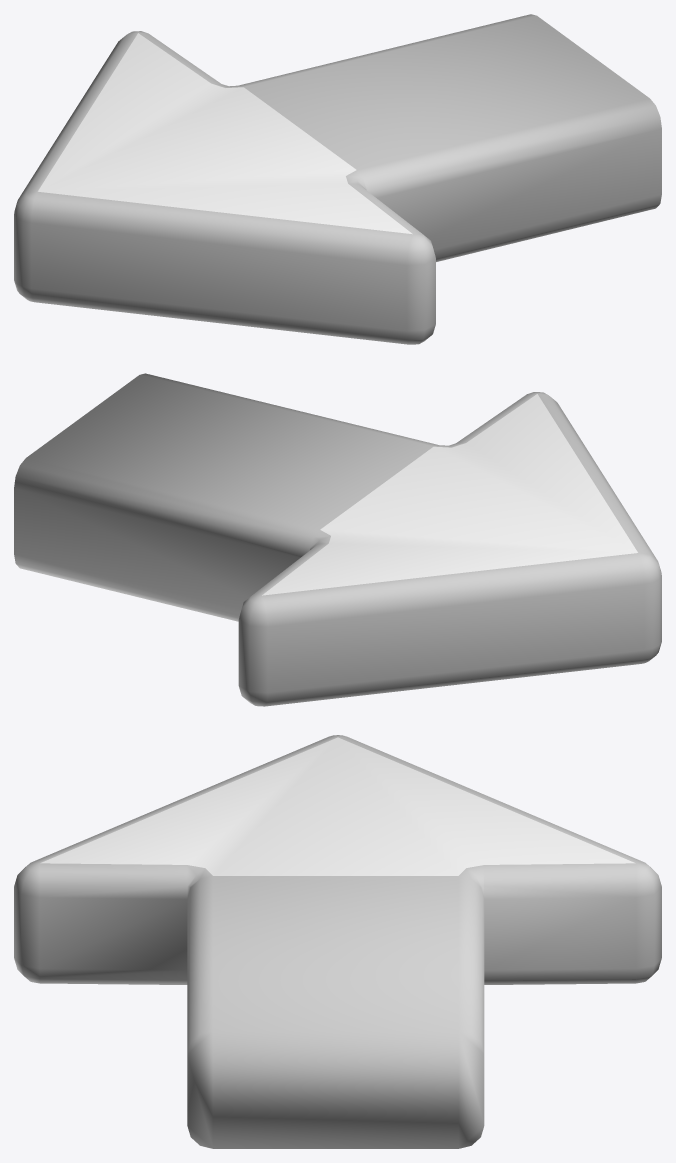
Rendered from movementArrowEnd.fbx.
3 renders of one model, top to bottom at view 1: azimuth 30°, elevation 25°; view 2: azimuth 150°, elevation 25°; view 3: azimuth 270°, elevation 25°, orthographic. The views are drawn at different scales.
Visible parts, largest first — view 1: Cube_002; view 2: Cube_002; view 3: Cube_002.
Part boxes in pixels (x1,y1,x2,y2): Cube_002: (14,14,661,344); Cube_002: (14,373,661,706); Cube_002: (14,735,661,1148).
Bounding box in the file's own units: 0.6987 × 0.126 × 0.628.
